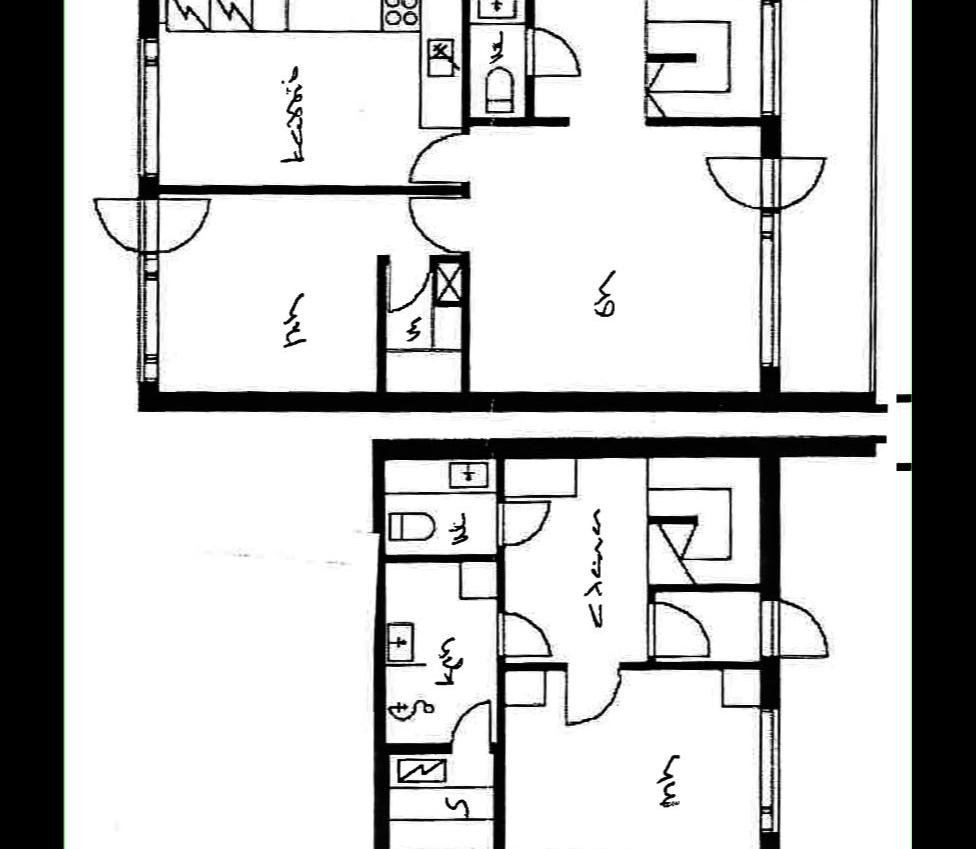bathroom: (384, 460, 494, 554), (467, 23, 531, 116)
door: (754, 588, 831, 660), (134, 196, 212, 257), (760, 148, 832, 214), (702, 153, 782, 212), (406, 192, 473, 258), (558, 662, 626, 726), (645, 596, 712, 656), (405, 124, 472, 184), (93, 192, 153, 257), (522, 19, 582, 80), (494, 494, 556, 548), (494, 606, 554, 660), (386, 251, 434, 317), (448, 695, 495, 755)
perimeter: (134, 0, 781, 414), (370, 434, 781, 849)
window: (756, 205, 796, 370), (753, 698, 796, 844), (128, 248, 169, 388), (133, 30, 165, 185), (754, 0, 793, 120)
